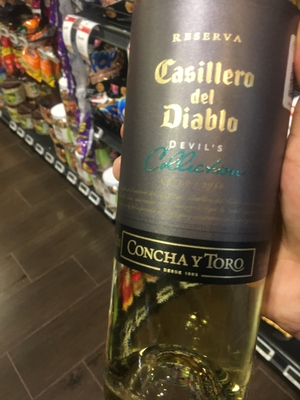casillero del diablo devils collection verde: (96, 3, 292, 390)
